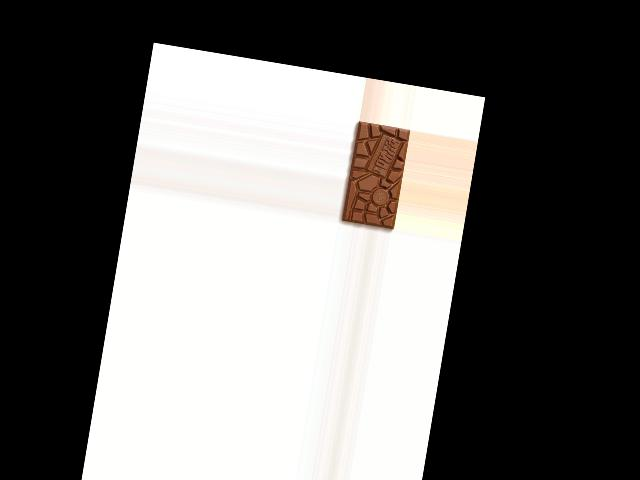chocolate: (339, 120, 410, 230)
